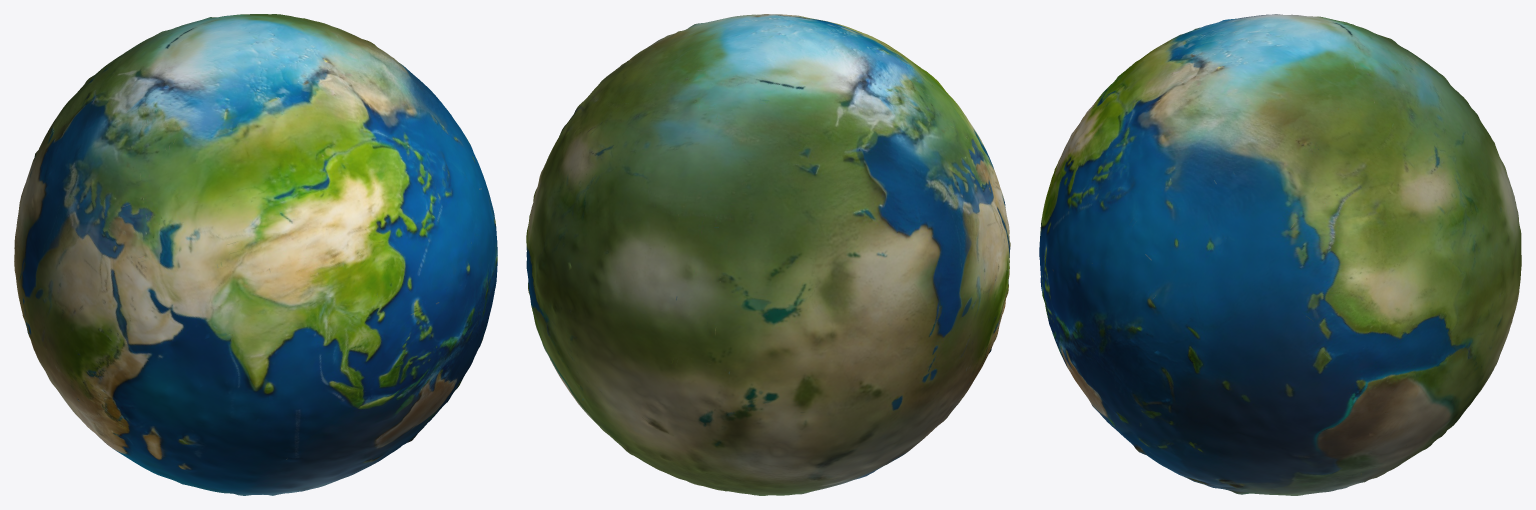
Rendered from globe_ani.glb.
3 views of the same model, side by side, from view 1: azimuth 30°, elevation 25°; view 2: azimuth 150°, elevation 25°; view 3: azimuth 270°, elevation 25° (orthographic).
Bounding box in the file's own units: 1.99 × 1.99 × 1.99.
Materials: 1 (1 with a texture image).
